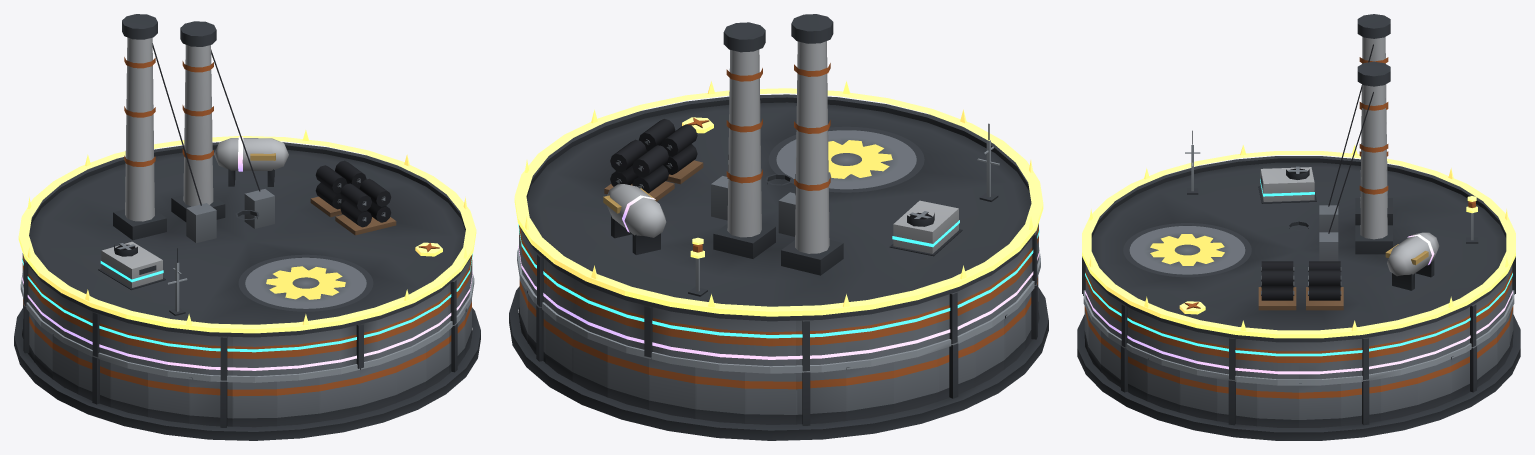
File: carbon_works_s_far.glb
3 renders of one model, left to right at view 1: azimuth 30°, elevation 25°; view 2: azimuth 150°, elevation 25°; view 3: azimuth 270°, elevation 25°, orthographic. The views are drawn at different scales.
Visible parts, largest first — view 1: Roof, Base, L5, L4, L3, L2; view 2: Roof, Base, L5, L3, L4, L2; view 3: Roof, Base, L5, L4, L3, L2.
Part boxes in pixels (x1=…): Roof: x1=22, y1=14, x2=472, y2=380; Base: x1=14, y1=298, x2=480, y2=440; L5: x1=18, y1=130, x2=476, y2=333; L4: x1=22, y1=137, x2=472, y2=370; L3: x1=22, y1=210, x2=472, y2=352; L2: x1=20, y1=248, x2=474, y2=382; Roof: x1=519, y1=14, x2=1038, y2=371; Base: x1=509, y1=276, x2=1048, y2=440; L5: x1=514, y1=81, x2=1043, y2=316; L3: x1=518, y1=174, x2=1039, y2=338; L4: x1=518, y1=184, x2=1039, y2=359; L2: x1=517, y1=123, x2=1040, y2=373; Roof: x1=1082, y1=14, x2=1515, y2=379; Base: x1=1077, y1=294, x2=1520, y2=440; L5: x1=1082, y1=145, x2=1515, y2=338; L4: x1=1085, y1=232, x2=1512, y2=374; L3: x1=1085, y1=166, x2=1512, y2=356; L2: x1=1083, y1=130, x2=1514, y2=385.
Bounding box in the file's own units: 11.74 × 8.6 × 11.74.
